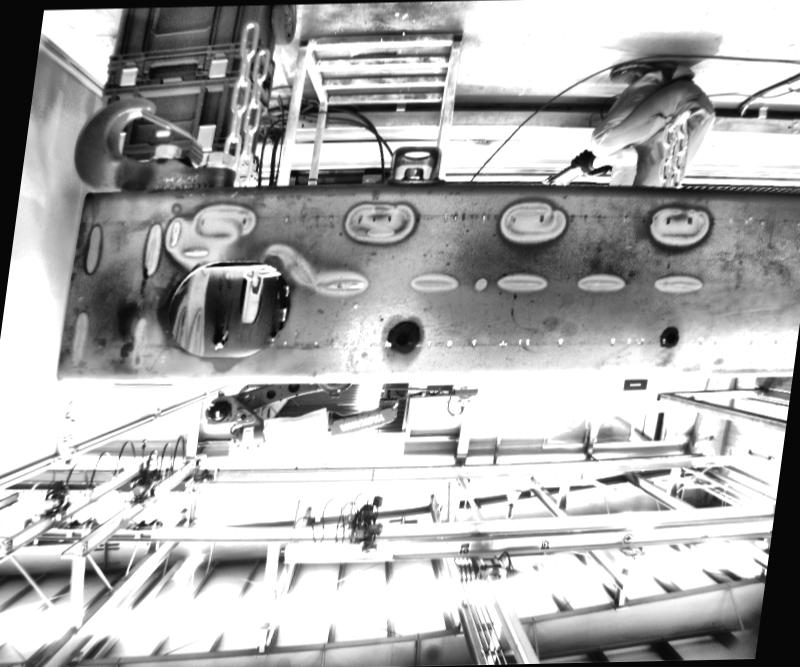bolt: (400, 164, 428, 181)
bracket: (365, 135, 461, 185)
hole: (154, 258, 300, 360), (393, 330, 413, 348), (665, 331, 678, 344)
